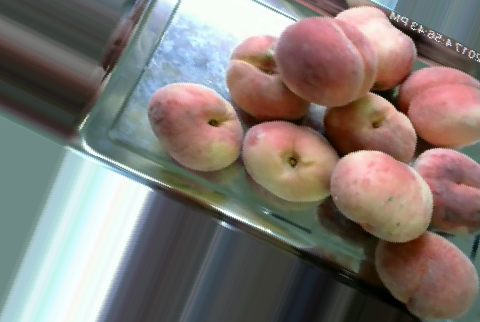Peach: (330, 149, 432, 242), (275, 15, 379, 106), (374, 231, 477, 319), (147, 83, 242, 169), (240, 122, 340, 202), (333, 5, 418, 91), (227, 31, 307, 122), (322, 90, 415, 163), (399, 65, 478, 145), (413, 146, 479, 231)
